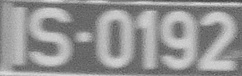0: (91, 7, 135, 72)
1: (134, 5, 162, 74)
2: (198, 7, 241, 76)
9: (160, 9, 197, 74)
I: (8, 4, 30, 71)
S: (27, 5, 73, 72)
